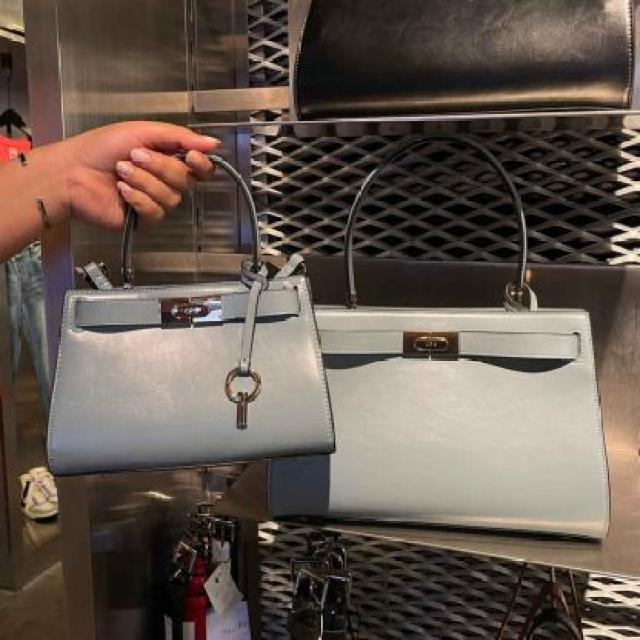Bag: (255, 116, 630, 558), (34, 145, 343, 493)
